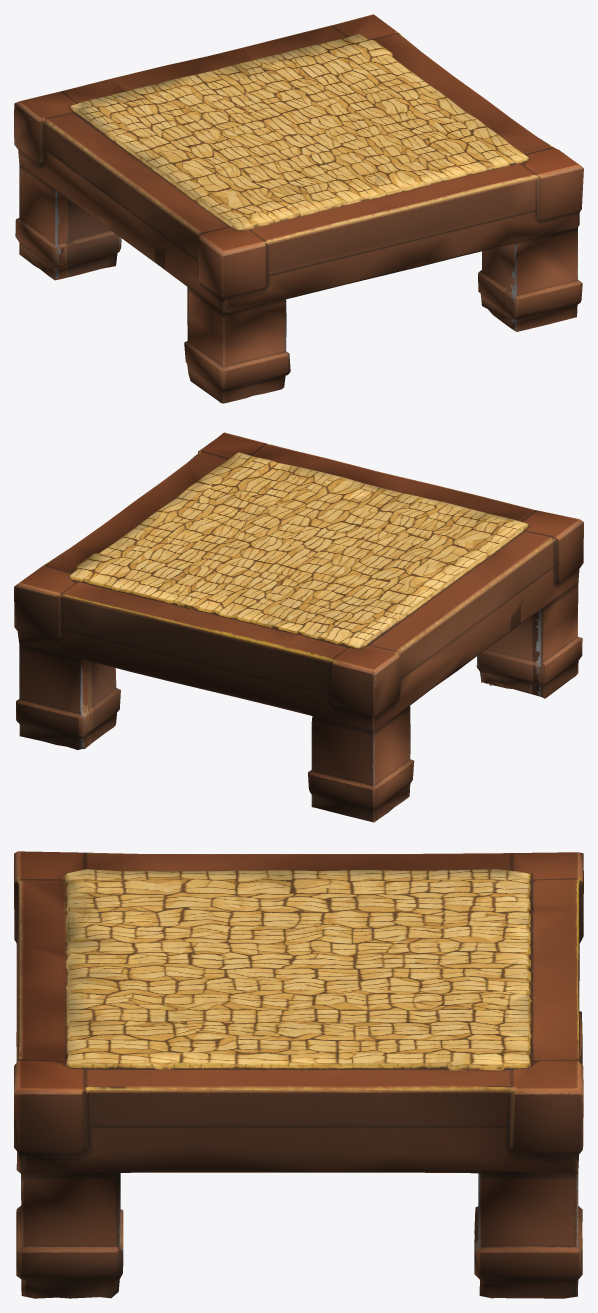
The model's file is pyeongsang.glb.
3 renders of one model, top to bottom at view 1: azimuth 30°, elevation 25°; view 2: azimuth 150°, elevation 25°; view 3: azimuth 270°, elevation 25°, orthographic. The views are drawn at different scales.
Parts seen in each view (by area): view 1: low; view 2: low; view 3: low.
Boxes of the visible parts, x1,y1,x2,y2 form: low: [14, 14, 583, 403]; low: [14, 432, 583, 822]; low: [14, 851, 583, 1298].
Bounding box in the file's own units: 0.9996 × 0.4208 × 1.
Materials: 1 (1 with a texture image).
